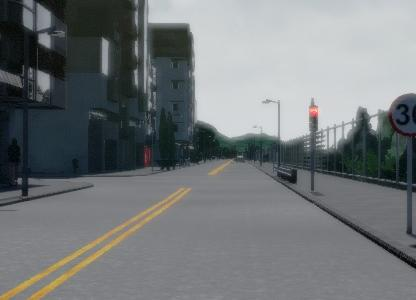Speed_30: (389, 90, 416, 139)
